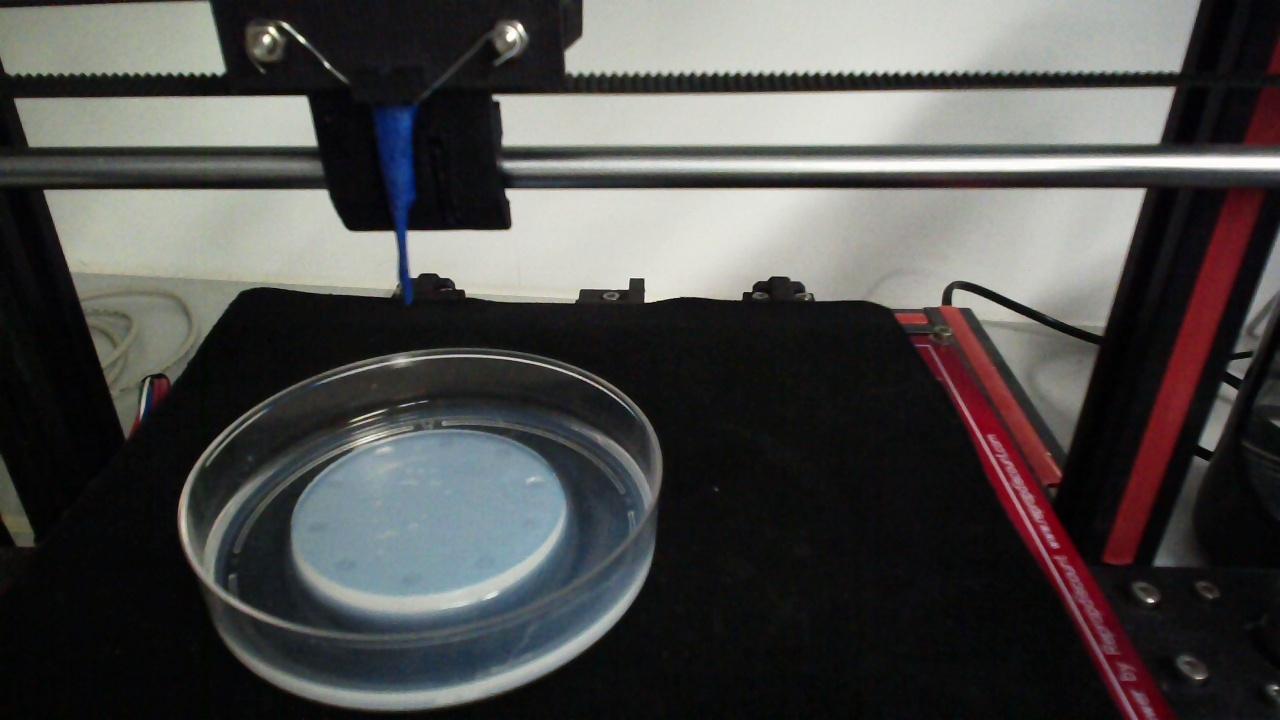groove: (398, 569, 423, 588), (473, 553, 498, 572), (304, 516, 328, 533), (333, 557, 358, 572), (323, 474, 345, 491), (521, 516, 543, 532), (371, 443, 393, 458), (524, 475, 544, 491), (493, 445, 514, 460), (436, 435, 456, 449)
needle: (380, 106, 413, 305)
